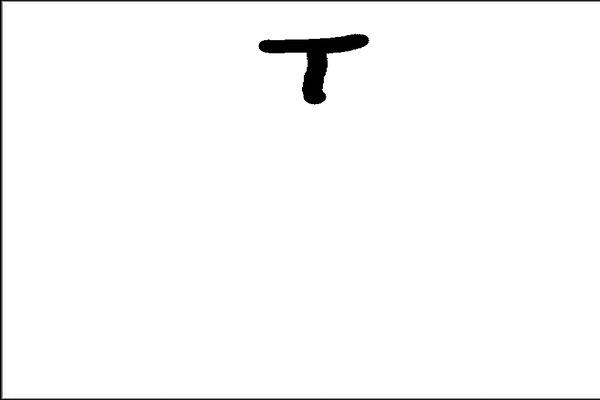T: (252, 27, 379, 110)
